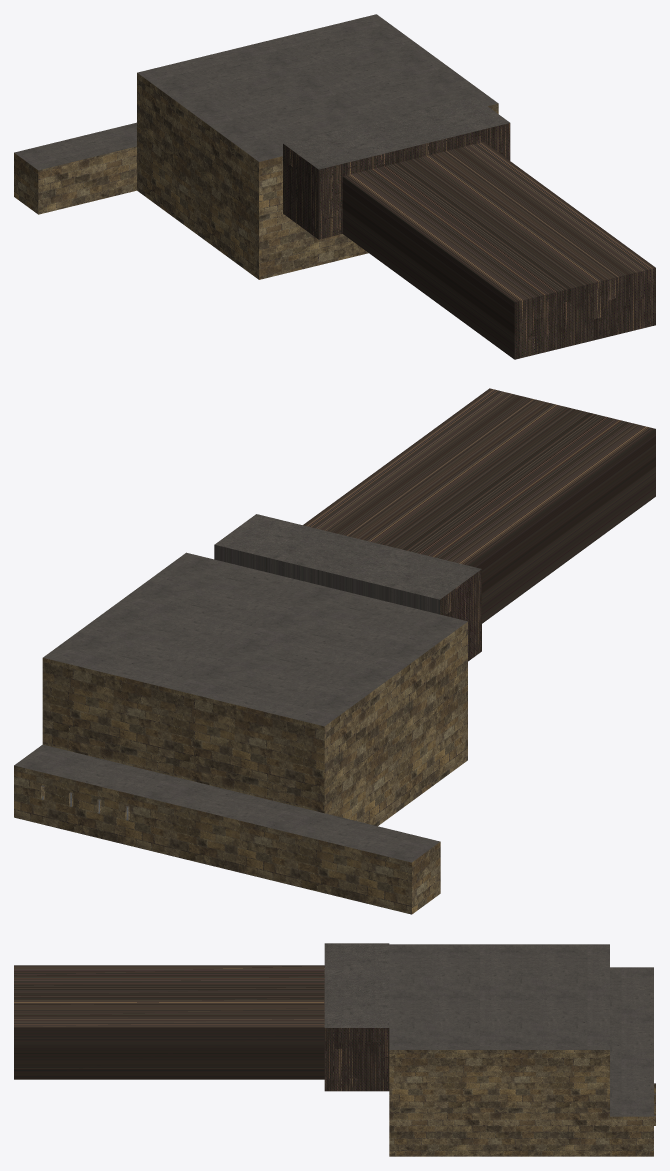
Rendered from CastleShell.glb.
The picture shows the model from 3 angles, top to bottom: view 1: azimuth 30°, elevation 25°; view 2: azimuth 150°, elevation 25°; view 3: azimuth 270°, elevation 25°; orthographic projection. The views are drawn at different scales.
Visible parts, largest first — view 1: CastleShell; view 2: CastleShell; view 3: CastleShell.
Boxes of the visible parts, x1,y1,x2,y2 form: CastleShell: (14, 14, 655, 359); CastleShell: (14, 388, 655, 914); CastleShell: (14, 943, 655, 1156).
Bounding box in the file's own units: 16.04 × 5.92 × 29.17.
5 materials, 5 textured.
